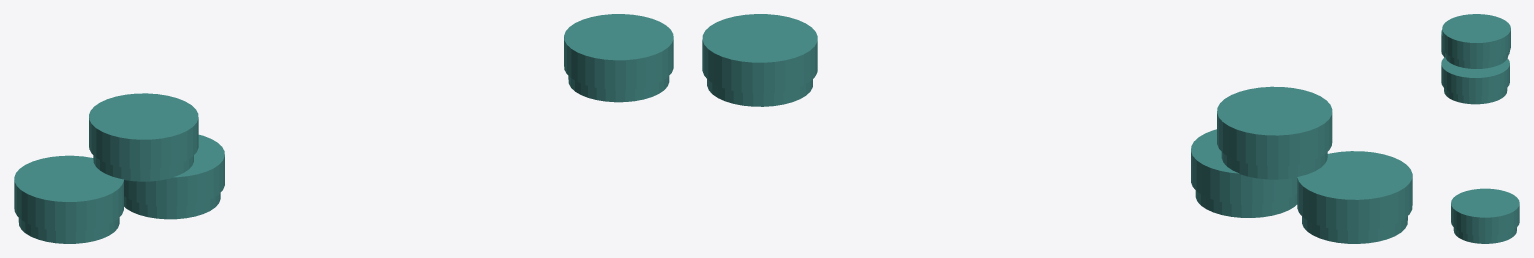
Rendered from MiniFrascos.fbx.
3 renders of one model, left to right at view 1: azimuth 30°, elevation 25°; view 2: azimuth 150°, elevation 25°; view 3: azimuth 270°, elevation 25°, orthographic. The views are drawn at different scales.
Parts seen in each view (by area): view 1: Cylinder.066, Cylinder.071, Cylinder.070, Cylinder.067, Cylinder.072, Cylinder.069, Cylinder.065, Cylinder.068; view 2: Cylinder.066, Cylinder.071, Cylinder.070, Cylinder.067, Cylinder.072, Cylinder.069, Cylinder.065, Cylinder.068; view 3: Cylinder.066, Cylinder.071, Cylinder.067, Cylinder.068, Cylinder.072, Cylinder.065, Cylinder.070.
Part boxes in pixels (<box>): Cylinder.066: <box>89,93,198,169</box>; Cylinder.071: <box>564,14,673,89</box>; Cylinder.070: <box>14,155,123,231</box>; Cylinder.067: <box>124,134,224,206</box>; Cylinder.072: <box>568,76,669,102</box>; Cylinder.069: <box>18,217,119,243</box>; Cylinder.065: <box>93,155,193,181</box>; Cylinder.068: <box>124,193,220,219</box>; Cylinder.066: <box>1217,86,1332,166</box>; Cylinder.071: <box>702,14,817,93</box>; Cylinder.070: <box>1297,151,1412,230</box>; Cylinder.067: <box>1191,129,1297,204</box>; Cylinder.072: <box>707,79,812,106</box>; Cylinder.069: <box>1302,216,1407,243</box>; Cylinder.065: <box>1221,152,1327,179</box>; Cylinder.068: <box>1195,190,1297,217</box>; Cylinder.066: <box>1442,14,1510,61</box>; Cylinder.071: <box>1451,188,1519,236</box>; Cylinder.067: <box>1441,57,1509,96</box>; Cylinder.068: <box>1444,88,1507,104</box>; Cylinder.072: <box>1453,227,1516,243</box>; Cylinder.065: <box>1445,53,1508,68</box>; Cylinder.070: <box>1441,29,1509,56</box>.
Size of the model in its own units: 132 by 16.84 by 21.97.
